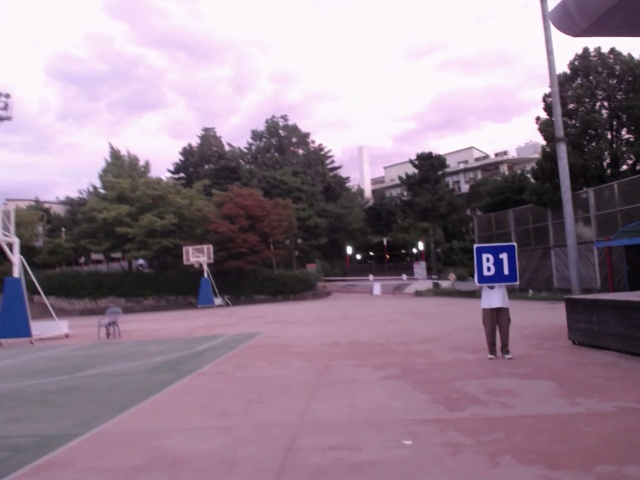delivery_b1: (473, 244, 520, 286)
